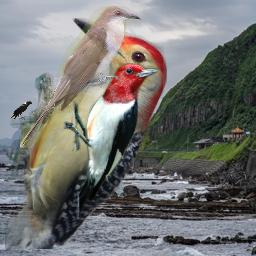Crow: (9, 100, 32, 120)
Cuckoo: (20, 6, 142, 148)
Woodpecker: (5, 18, 167, 249), (62, 63, 161, 220)
